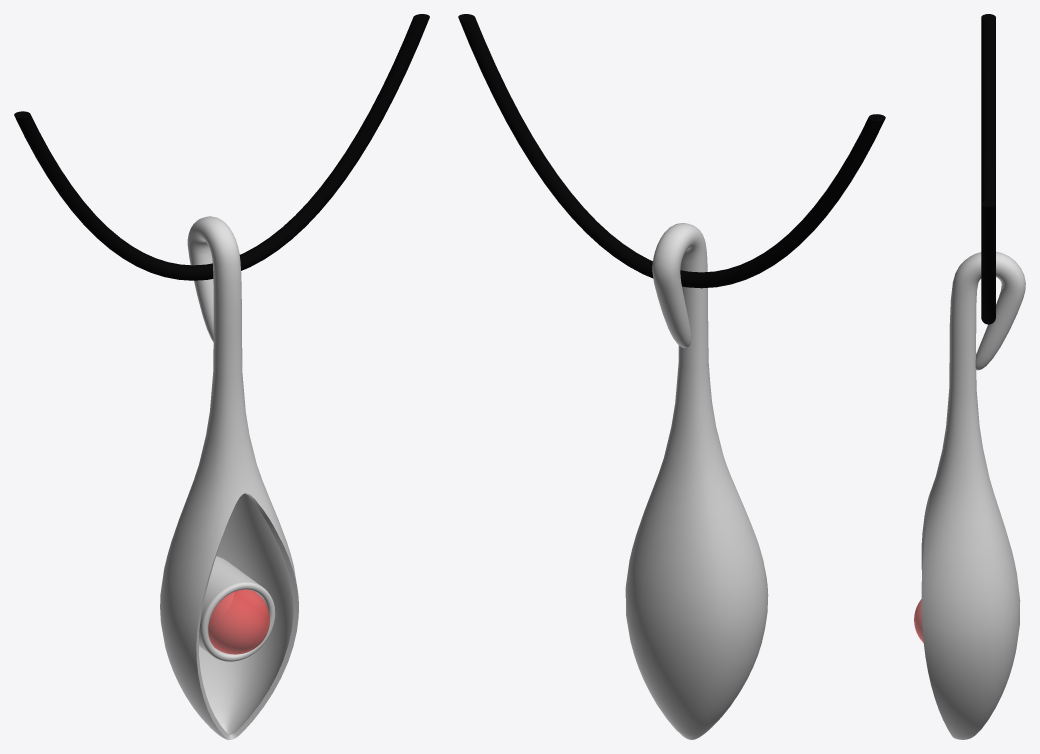
3 renders of one model, left to right at view 1: azimuth 30°, elevation 25°; view 2: azimuth 150°, elevation 25°; view 3: azimuth 270°, elevation 25°, orthographic. The views are drawn at different scales.
Visible parts, largest first — view 1: Body45, Body51, Body49, Body48; view 2: Body45, Body51; view 3: Body45, Body51, Body48.
Boxes of the visible parts, x1,y1,x2,y2 form: Body45: [160, 216, 298, 739]; Body51: [14, 14, 429, 280]; Body49: [198, 556, 275, 661]; Body48: [208, 589, 269, 654]; Body45: [625, 223, 768, 739]; Body51: [458, 14, 885, 288]; Body45: [921, 251, 1025, 739]; Body51: [981, 14, 995, 324]; Body48: [914, 599, 923, 642].
Bounding box in the file's own units: 0.0929 × 0.1417 × 0.0227.
